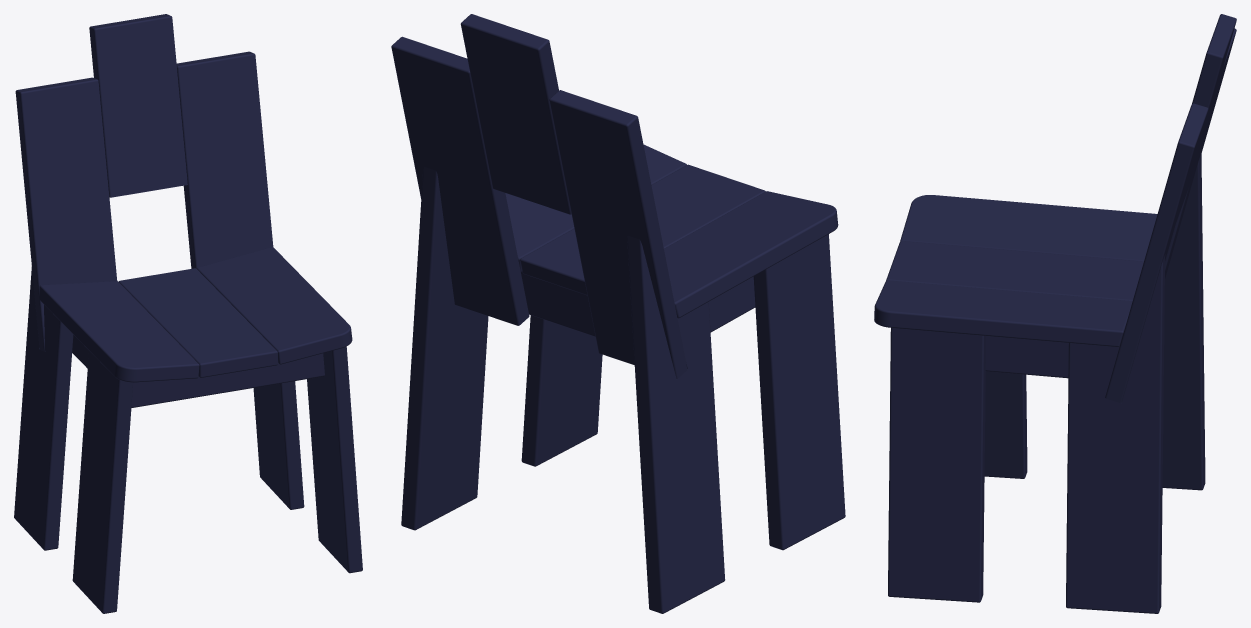
Rendered from blueberrylaq.glb.
3 renders of one model, left to right at view 1: azimuth 30°, elevation 25°; view 2: azimuth 150°, elevation 25°; view 3: azimuth 270°, elevation 25°, orthographic. The views are drawn at different scales.
Visible parts, largest first — view 1: Brep.090, Brep.092, Brep.091, Brep.094, Brep.093, Brep.136, Brep.089, Brep.100, Brep.088, Brep.095, Brep.096; view 2: Brep.093, Brep.094, Brep.095, Brep.090, Brep.092, Brep.091, Brep.089, Brep.088, Brep.100, Brep.136, Brep.099, Brep.098; view 3: Brep.095, Brep.088, Brep.089, Brep.136, Brep.093, Brep.100, Brep.092, Brep.094, Brep.097, Brep.091, Brep.090.
Part boxes in pixels (x1,y1,x2,y2): Brep.090: (15, 77, 117, 351); Brep.092: (176, 51, 273, 268); Brep.091: (89, 14, 187, 197); Brep.094: (72, 351, 133, 613); Brep.093: (14, 266, 73, 550); Brep.136: (197, 247, 352, 364); Brep.089: (39, 281, 199, 382); Brep.100: (118, 268, 277, 377); Brep.088: (307, 346, 362, 573); Brep.095: (253, 381, 304, 509); Brep.096: (131, 353, 324, 407); Brep.093: (627, 235, 725, 613); Brep.094: (753, 234, 845, 550); Brep.095: (401, 166, 488, 530); Brep.090: (549, 90, 687, 378); Brep.092: (391, 36, 529, 325); Brep.091: (460, 14, 571, 214); Brep.089: (664, 191, 838, 318); Brep.088: (521, 315, 602, 466); Brep.100: (520, 164, 765, 295); Brep.136: (505, 144, 686, 272); Brep.099: (521, 271, 595, 336); Brep.098: (708, 276, 755, 332); Brep.095: (1066, 254, 1165, 613); Brep.088: (888, 328, 985, 602); Brep.089: (900, 195, 1157, 261); Brep.136: (874, 280, 1132, 346); Brep.093: (1162, 153, 1205, 490); Brep.100: (886, 241, 1143, 300); Brep.092: (1105, 103, 1208, 402); Brep.094: (984, 371, 1027, 478); Brep.097: (985, 336, 1068, 378); Brep.091: (1176, 14, 1236, 221); Brep.090: (1165, 28, 1236, 278).
Size of the model in its own units: 0.5385 by 0.8791 by 0.5575.
